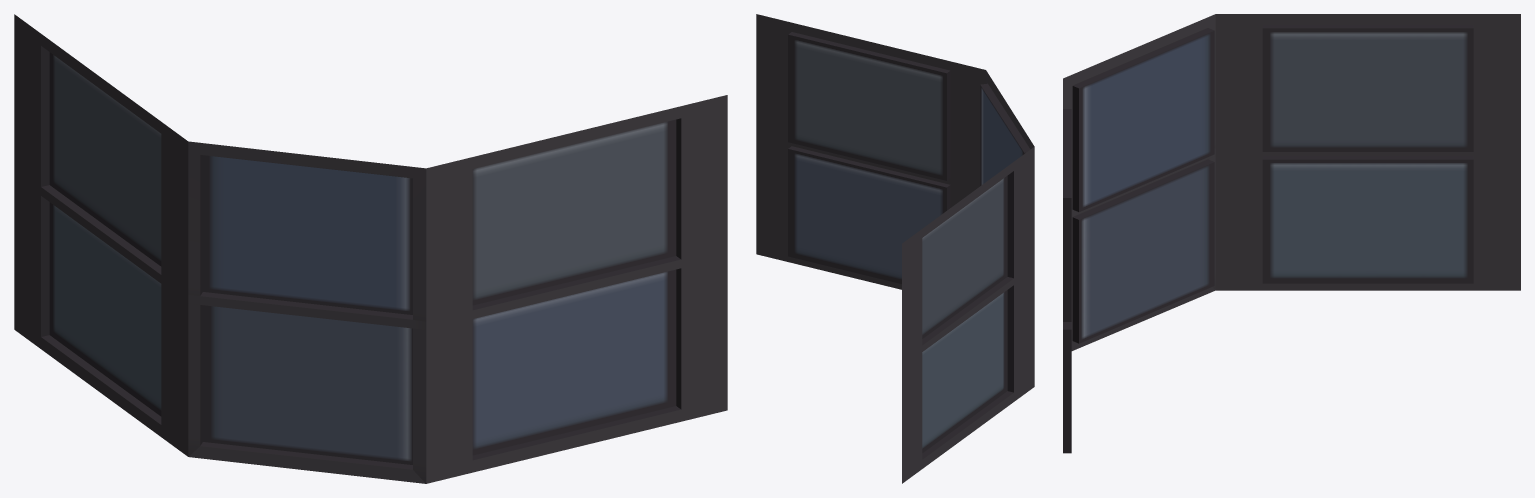
Rendered from Bock_G3(0).fbx.
The picture shows the model from 3 angles, left to right: view 1: azimuth 30°, elevation 25°; view 2: azimuth 150°, elevation 25°; view 3: azimuth 270°, elevation 25°; orthographic projection. The views are drawn at different scales.
Parts seen in each view (by area): view 1: Bock_G3; view 2: Bock_G3; view 3: Bock_G3.
Boxes of the visible parts, bbox=[...] form: Bock_G3: bbox=[14, 14, 727, 483]; Bock_G3: bbox=[756, 14, 1034, 483]; Bock_G3: bbox=[1063, 14, 1520, 453].
Size of the model in its own units: 600 by 400 by 600.
